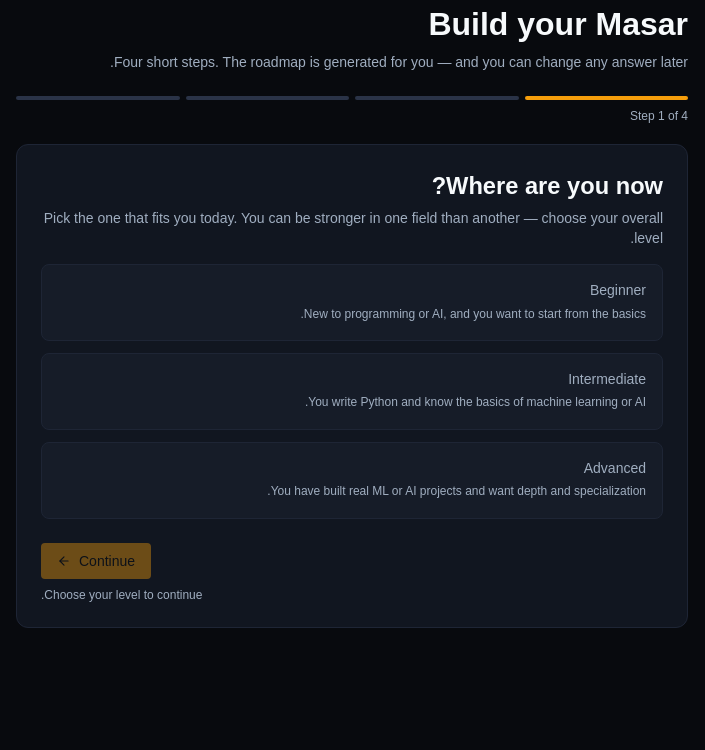
Test case: step 2 — what are you interested in? › tells a beginner that Multimodal is an advanced path — without blocking them
The width and height of the screenshot is (705, 750).
Click the radio button labelled "Beginner" at (618, 290), box [41,264,663,341]
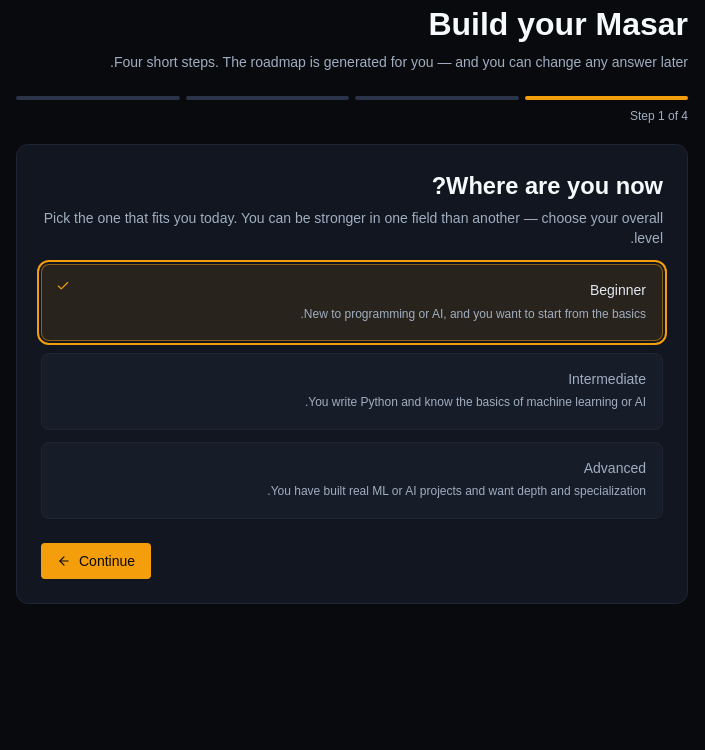
Click the button "Continue" at (96, 561), box [41,543,151,579]
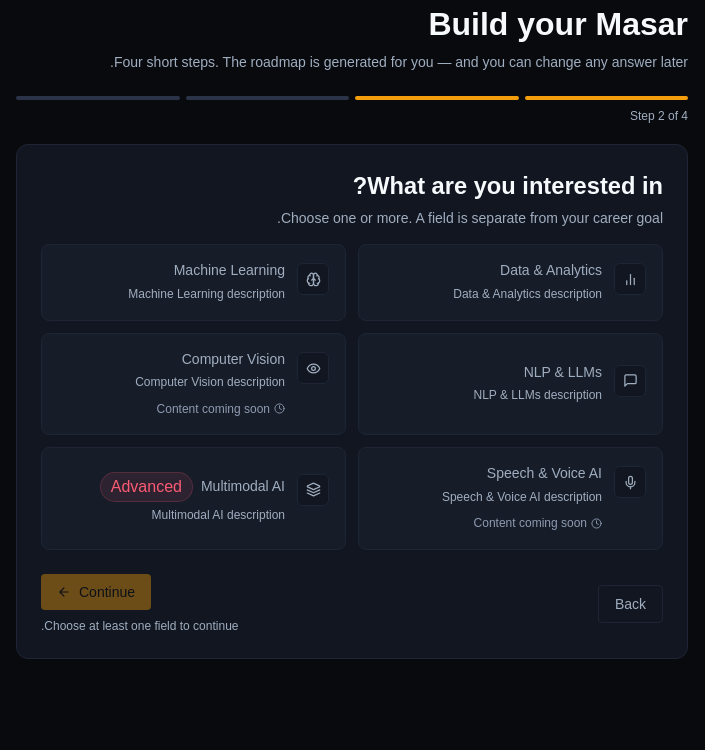
Click the checkbox labelled "Multimodal AI Advanced Multimodal AI description" at (194, 499), box [41,448,346,550]
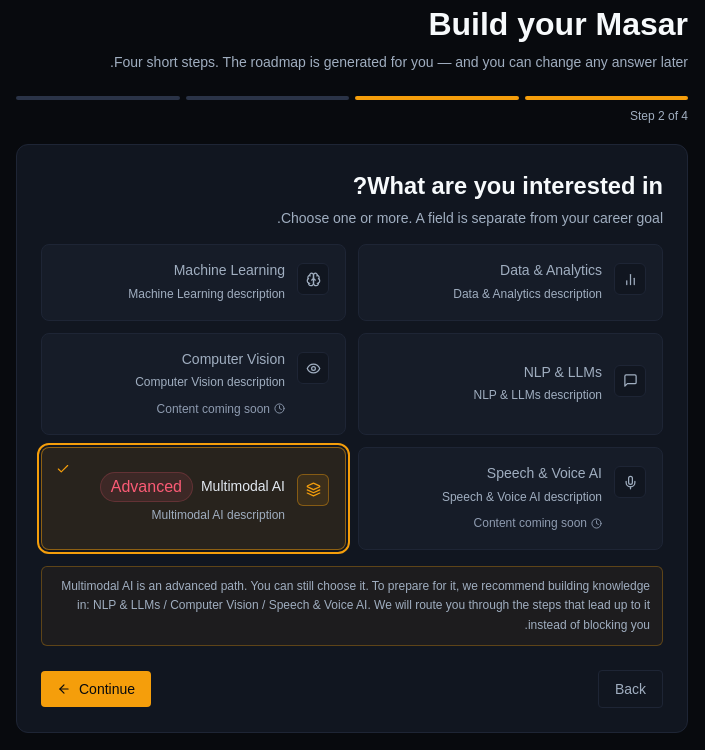
Check: the text "Multimodal AI is an advanced path" is shown, box [61,579,650,632]
Check: the text "instead of blocking you" is shown, box [61,579,650,632]
Check: the text "we recommend building knowledge in: NLP & LLMs / Computer Vision / Speech & Voice AI" is shown, box [61,579,650,632]
